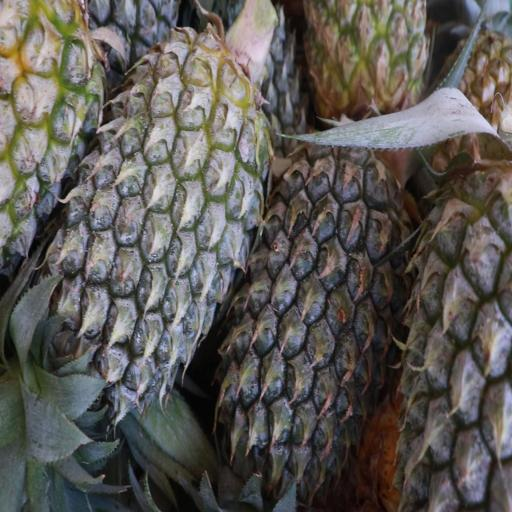------------------------------: (0, 0, 107, 247), (306, 0, 420, 121)
